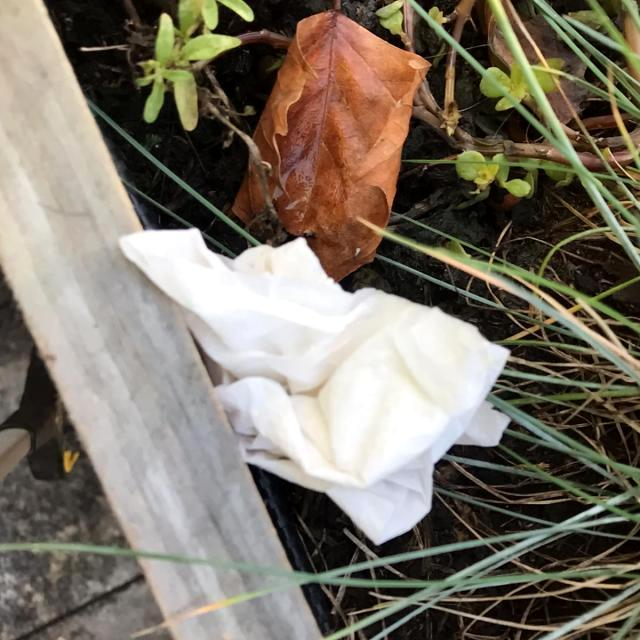Paper: (115, 227, 513, 547)
